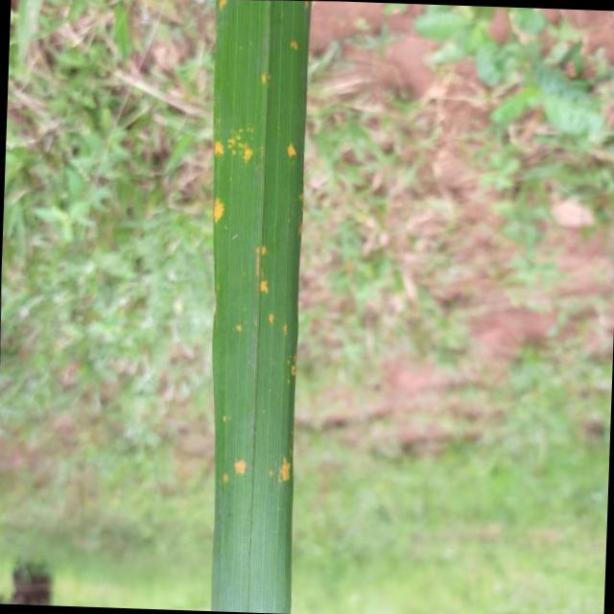Kalium: (211, 1, 310, 614)
